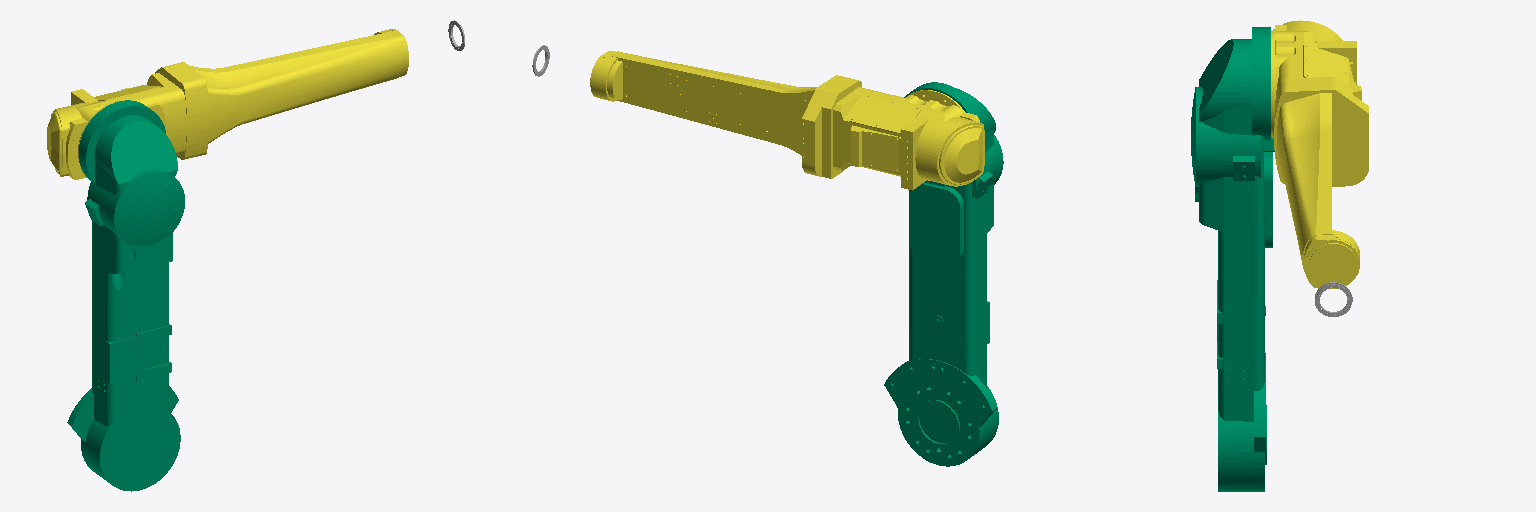
URDF robot description (IRB5500_22_rev00):
<?xml version="1.0" ?>
<robot name="IRB5500_22_rev00">

<link name="base_link">
  <inertial>
    <origin xyz="0.29563026796635283 0.24825514618313058 0.3073352992602315" rpy="0 0 0"/>
    <mass value="546.7722107426897"/>
    <inertia ixx="27.709277" iyy="24.796339" izz="29.08044" ixy="0.039619" iyz="-0.015266" ixz="-3.497012"/>
  </inertial>
  <visual>
    <origin xyz="0 0 0" rpy="0 0 0"/>
    <geometry>
      <mesh filename="meshes/base_link.stl" scale="0.001 0.001 0.001"/>
    </geometry>
  </visual>
  <collision>
    <origin xyz="0 0 0" rpy="0 0 0"/>
    <geometry>
      <mesh filename="meshes/base_link.stl" scale="0.001 0.001 0.001"/>
    </geometry>
  </collision>
</link>

<link name="IRB5500_22_rev00_LINK1_CAD_1">
  <inertial>
    <origin xyz="2.644854479871839e-07 0.025223073018613457 0.34574472453644944" rpy="0 0 0"/>
    <mass value="1170.5411783269178"/>
    <inertia ixx="49.389645" iyy="64.386597" izz="51.895372" ixy="0.000256" iyz="1.243111" ixz="4.3e-05"/>
  </inertial>
  <visual>
    <origin xyz="-0.515249 -0.226004 -0.484024" rpy="0 0 0"/>
    <geometry>
      <mesh filename="meshes/IRB5500_22_rev00_LINK1_CAD_1.stl" scale="0.001 0.001 0.001"/>
    </geometry>
  </visual>
  <collision>
    <origin xyz="-0.515249 -0.226004 -0.484024" rpy="0 0 0"/>
    <geometry>
      <mesh filename="meshes/IRB5500_22_rev00_LINK1_CAD_1.stl" scale="0.001 0.001 0.001"/>
    </geometry>
  </collision>
</link>

<link name="IRB5500_22_rev00_LINK2_CAD_1">
  <inertial>
    <origin xyz="1.2537374863064166e-05 -0.0647454747143845 0.6879393746685093" rpy="0 0 0"/>
    <mass value="723.6999417469983"/>
    <inertia ixx="160.035017" iyy="163.2317" izz="8.46551" ixy="-0.01496" iyz="2.579054" ixz="0.028195"/>
  </inertial>
  <visual>
    <origin xyz="-0.515249 0.005042 -0.92" rpy="0 0 0"/>
    <geometry>
      <mesh filename="meshes/IRB5500_22_rev00_LINK2_CAD_1.stl" scale="0.001 0.001 0.001"/>
    </geometry>
  </visual>
  <collision>
    <origin xyz="-0.515249 0.005042 -0.92" rpy="0 0 0"/>
    <geometry>
      <mesh filename="meshes/IRB5500_22_rev00_LINK2_CAD_1.stl" scale="0.001 0.001 0.001"/>
    </geometry>
  </collision>
</link>

<link name="IRB5500_22_rev00_LINK3_CAD_1">
  <inertial>
    <origin xyz="0.39725233168241525 0.1434579842579379 -0.0005618457435807578" rpy="0 0 0"/>
    <mass value="607.3432707370075"/>
    <inertia ixx="6.245279" iyy="118.657628" izz="118.266171" ixy="-3.559113" iyz="0.043939" ixz="-0.002031"/>
  </inertial>
  <visual>
    <origin xyz="-0.515451 -0.030633 -2.220003" rpy="0 0 0"/>
    <geometry>
      <mesh filename="meshes/IRB5500_22_rev00_LINK3_CAD_1.stl" scale="0.001 0.001 0.001"/>
    </geometry>
  </visual>
  <collision>
    <origin xyz="-0.515451 -0.030633 -2.220003" rpy="0 0 0"/>
    <geometry>
      <mesh filename="meshes/IRB5500_22_rev00_LINK3_CAD_1.stl" scale="0.001 0.001 0.001"/>
    </geometry>
  </collision>
</link>

<link name="IRB5500_22_rev00_LINK4_CAD_1">
  <inertial>
    <origin xyz="0.04504388184360586 0.015639941628475207 1.3726082359610814e-06" rpy="0 0 0"/>
    <mass value="13.246564877496244"/>
    <inertia ixx="0.043539" iyy="0.036823" izz="0.029169" ixy="-0.006373" iyz="1e-06" ixz="-1e-06"/>
  </inertial>
  <visual>
    <origin xyz="-1.956451 -0.247633 -2.219964" rpy="0 0 0"/>
    <geometry>
      <mesh filename="meshes/IRB5500_22_rev00_LINK4_CAD_1.stl" scale="0.001 0.001 0.001"/>
    </geometry>
  </visual>
  <collision>
    <origin xyz="-1.956451 -0.247633 -2.219964" rpy="0 0 0"/>
    <geometry>
      <mesh filename="meshes/IRB5500_22_rev00_LINK4_CAD_1.stl" scale="0.001 0.001 0.001"/>
    </geometry>
  </collision>
</link>

<link name="IRB5500_22_rev00_LINK5_CAD_1">
  <inertial>
    <origin xyz="0.05993573448242451 -0.022501336628881152 -2.8488179162344807e-06" rpy="0 0 0"/>
    <mass value="22.90378370207612"/>
    <inertia ixx="0.078073" iyy="0.096705" izz="0.075709" ixy="0.0" iyz="2e-06" ixz="0.0"/>
  </inertial>
  <visual>
    <origin xyz="-2.030866 -0.244191 -2.219964" rpy="0 0 0"/>
    <geometry>
      <mesh filename="meshes/IRB5500_22_rev00_LINK5_CAD_1.stl" scale="0.001 0.001 0.001"/>
    </geometry>
  </visual>
  <collision>
    <origin xyz="-2.030866 -0.244191 -2.219964" rpy="0 0 0"/>
    <geometry>
      <mesh filename="meshes/IRB5500_22_rev00_LINK5_CAD_1.stl" scale="0.001 0.001 0.001"/>
    </geometry>
  </collision>
</link>

<link name="IRB5500_22_rev00_LINK5B_CAD_1">
  <inertial>
    <origin xyz="0.027322789075515885 0.015066692567060225 1.2588592559481526e-06" rpy="0 0 0"/>
    <mass value="11.027488801145376"/>
    <inertia ixx="0.031527" iyy="0.028228" izz="0.022716" ixy="0.005894" iyz="1e-06" ixz="1e-06"/>
  </inertial>
  <visual>
    <origin xyz="-2.150738 -0.244191 -2.219964" rpy="0 0 0"/>
    <geometry>
      <mesh filename="meshes/IRB5500_22_rev00_LINK5B_CAD_1.stl" scale="0.001 0.001 0.001"/>
    </geometry>
  </visual>
  <collision>
    <origin xyz="-2.150738 -0.244191 -2.219964" rpy="0 0 0"/>
    <geometry>
      <mesh filename="meshes/IRB5500_22_rev00_LINK5B_CAD_1.stl" scale="0.001 0.001 0.001"/>
    </geometry>
  </collision>
</link>

<link name="IRB5500_22_rev00_LINK6_CAD_1">
  <inertial>
    <origin xyz="-0.005525629166066803 1.09537246251179e-06 -9.113715573327852e-07" rpy="0 0 0"/>
    <mass value="0.3574993425525093"/>
    <inertia ixx="0.001069" iyy="0.000548" izz="0.000527" ixy="0.0" iyz="-5e-06" ixz="-0.0"/>
  </inertial>
  <visual>
    <origin xyz="-2.237551 -0.247633 -2.219964" rpy="0 0 0"/>
    <geometry>
      <mesh filename="meshes/IRB5500_22_rev00_LINK6_CAD_1.stl" scale="0.001 0.001 0.001"/>
    </geometry>
  </visual>
  <collision>
    <origin xyz="-2.237551 -0.247633 -2.219964" rpy="0 0 0"/>
    <geometry>
      <mesh filename="meshes/IRB5500_22_rev00_LINK6_CAD_1.stl" scale="0.001 0.001 0.001"/>
    </geometry>
  </collision>
</link>

<joint name="j1" type="continuous">
  <origin xyz="0.515249 0.226004 0.484024" rpy="0 0 0"/>
  <parent link="base_link"/>
  <child link="IRB5500_22_rev00_LINK1_CAD_1"/>
  <axis xyz="-0.0 0.000105 -1.0"/>
</joint>

<joint name="j2" type="continuous">
  <origin xyz="0.0 -0.231046 0.435976" rpy="0 0 0"/>
  <parent link="IRB5500_22_rev00_LINK1_CAD_1"/>
  <child link="IRB5500_22_rev00_LINK2_CAD_1"/>
  <axis xyz="-0.0 -1.0 -0.000105"/>
</joint>

<joint name="j3" type="continuous">
  <origin xyz="0.000202 0.035675 1.300003" rpy="0 0 0"/>
  <parent link="IRB5500_22_rev00_LINK2_CAD_1"/>
  <child link="IRB5500_22_rev00_LINK3_CAD_1"/>
  <axis xyz="-0.0 1.0 0.000105"/>
</joint>

<joint name="j4" type="continuous">
  <origin xyz="1.441 0.217 -3.9e-05" rpy="0 0 0"/>
  <parent link="IRB5500_22_rev00_LINK3_CAD_1"/>
  <child link="IRB5500_22_rev00_LINK4_CAD_1"/>
  <axis xyz="1.0 -0.0 0.0"/>
</joint>

<joint name="j5" type="continuous">
  <origin xyz="0.074415 -0.003442 0.0" rpy="0 0 0"/>
  <parent link="IRB5500_22_rev00_LINK4_CAD_1"/>
  <child link="IRB5500_22_rev00_LINK5_CAD_1"/>
  <axis xyz="0.819152 -0.573576 -6e-05"/>
</joint>

<joint name="j6" type="continuous">
  <origin xyz="0.119872 0.0 0.0" rpy="0 0 0"/>
  <parent link="IRB5500_22_rev00_LINK5_CAD_1"/>
  <child link="IRB5500_22_rev00_LINK5B_CAD_1"/>
  <axis xyz="0.819152 0.573576 6e-05"/>
</joint>

<joint name="j6b" type="revolute">
  <origin xyz="0.086813 0.003442 0.0" rpy="0 0 0"/>
  <parent link="IRB5500_22_rev00_LINK5B_CAD_1"/>
  <child link="IRB5500_22_rev00_LINK6_CAD_1"/>
  <axis xyz="-1.0 0.0 -0.0"/>
  <limit upper="0.0" lower="0.0" effort="100" velocity="100"/>
</joint>

</robot>

--- Render facts (derived) ---
The picture shows the robot from 3 angles, left to right: view 1: azimuth 30°, elevation 25°; view 2: azimuth 150°, elevation 25°; view 3: azimuth 270°, elevation 25°; orthographic projection.
Robot: IRB5500_22_rev00 — 8 links, 7 joints (1 revolute, 6 continuous); root link base_link; default pose: every joint at zero.
Visible links, largest first — view 1: IRB5500_22_rev00_LINK2_CAD_1, IRB5500_22_rev00_LINK3_CAD_1; view 2: IRB5500_22_rev00_LINK3_CAD_1, IRB5500_22_rev00_LINK2_CAD_1; view 3: IRB5500_22_rev00_LINK2_CAD_1, IRB5500_22_rev00_LINK3_CAD_1, IRB5500_22_rev00_LINK6_CAD_1.
Link boxes in pixels (x1,y1,x2,y2): IRB5500_22_rev00_LINK2_CAD_1: (67, 100, 184, 491); IRB5500_22_rev00_LINK3_CAD_1: (47, 29, 408, 179); IRB5500_22_rev00_LINK3_CAD_1: (590, 51, 984, 190); IRB5500_22_rev00_LINK2_CAD_1: (884, 82, 1003, 466); IRB5500_22_rev00_LINK2_CAD_1: (1191, 27, 1274, 491); IRB5500_22_rev00_LINK3_CAD_1: (1271, 20, 1368, 288); IRB5500_22_rev00_LINK6_CAD_1: (1315, 282, 1352, 316).
Bounding box of the posed robot: 1.98 × 0.5999 × 1.68 m (x, y, z).
3 mesh visuals loaded from 8 distinct referenced files (3 binary STL); not drawn: 5 (reference not matched to a file when rendering).